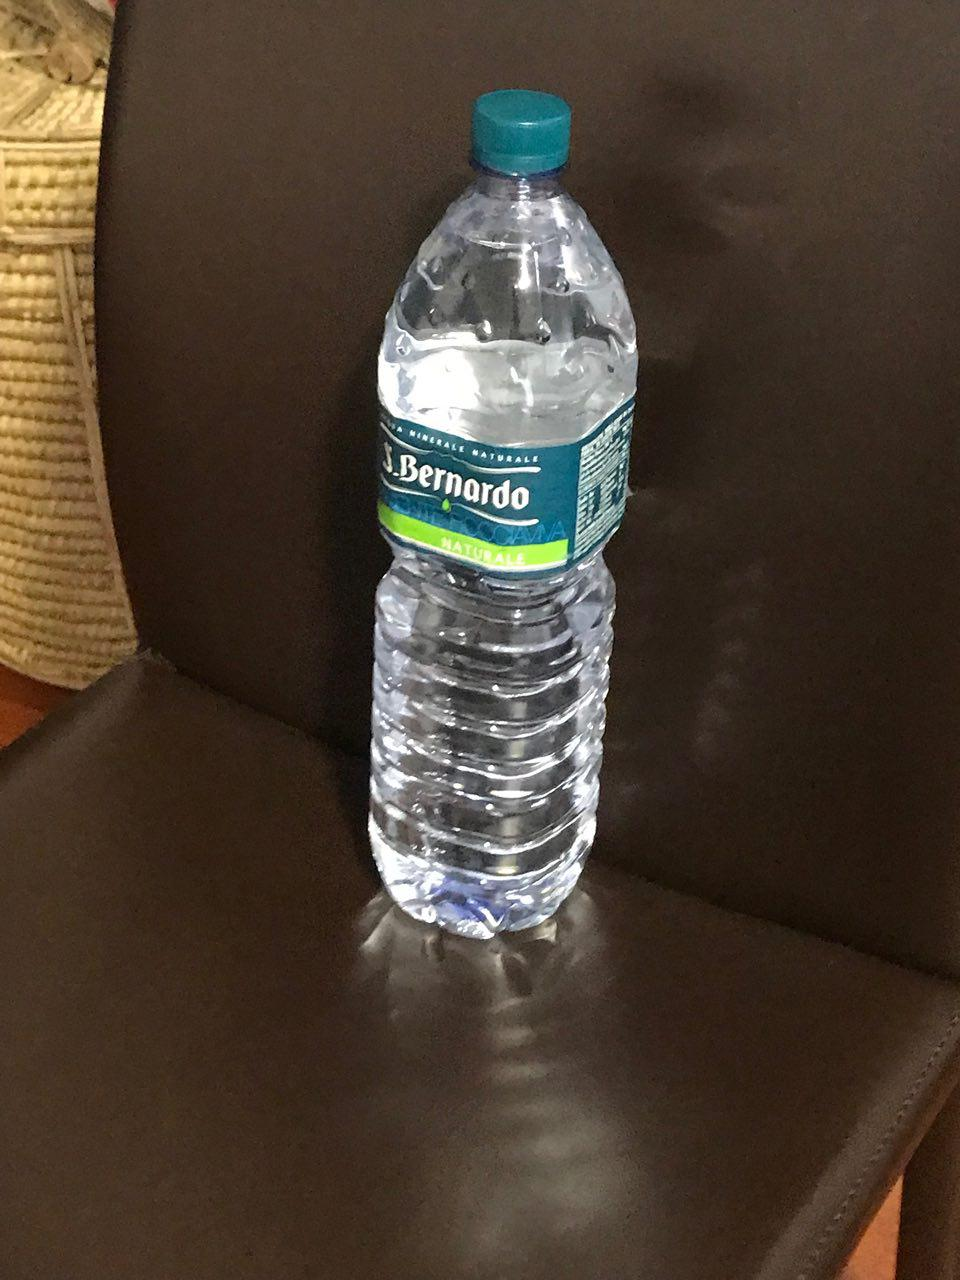san_bernardo: (366, 86, 639, 942)
